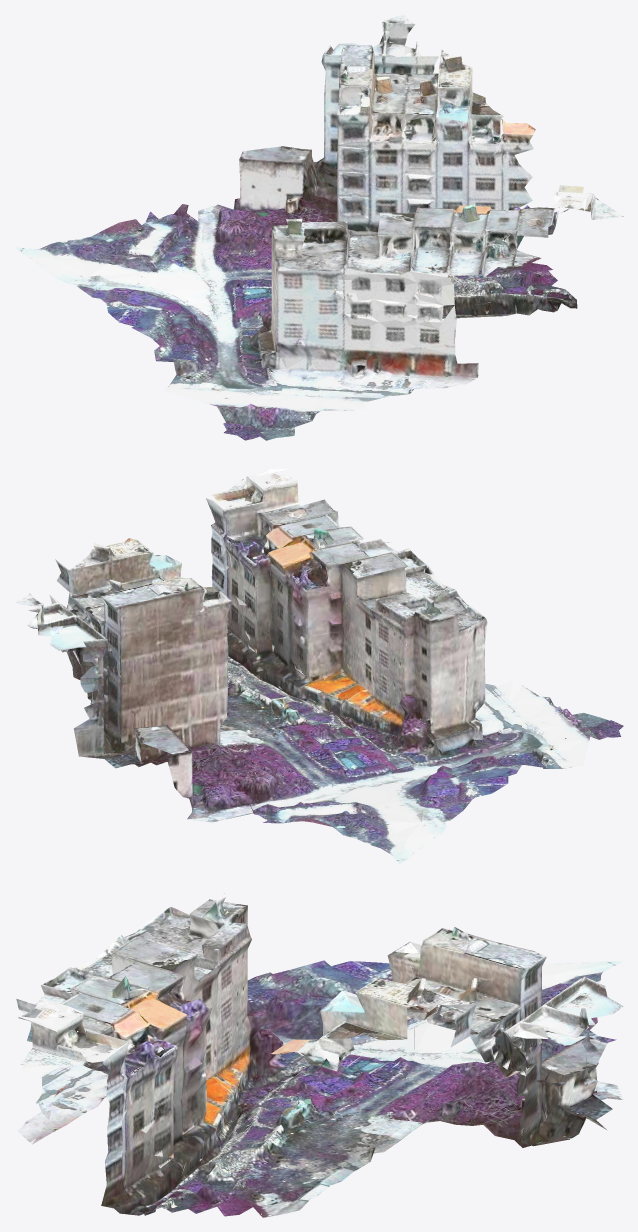
The model's file is Tile_+011_+018_L19_000032.glb.
3 renders of one model, top to bottom at view 1: azimuth 30°, elevation 25°; view 2: azimuth 150°, elevation 25°; view 3: azimuth 270°, elevation 25°, orthographic. The views are drawn at different scales.
Visible parts, largest first — view 1: rtc; view 2: rtc; view 3: rtc.
Boxes of the visible parts, x1,y1,x2,y2 form: rtc: [14, 14, 623, 440]; rtc: [14, 469, 623, 864]; rtc: [15, 893, 623, 1217].
Bounding box in the file's own units: 56.95 × 26.16 × 56.59.
1 material, 1 textured.
